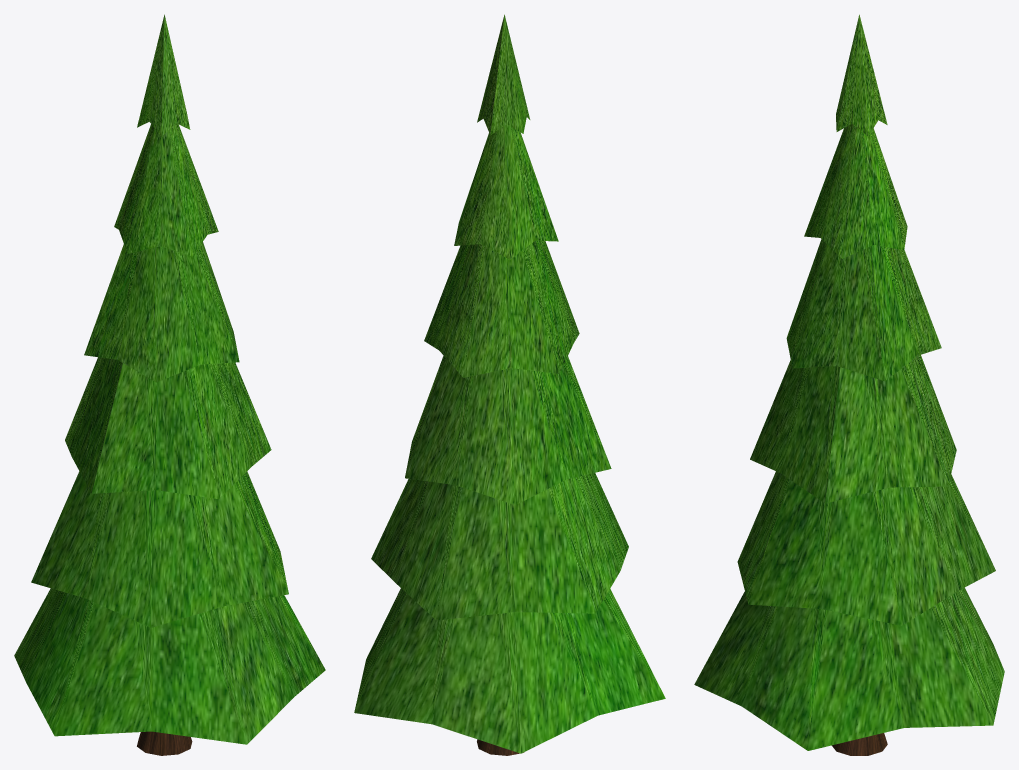
The model's file is tree.gltf.
3 views of the same model, side by side, from view 1: azimuth 30°, elevation 25°; view 2: azimuth 150°, elevation 25°; view 3: azimuth 270°, elevation 25° (orthographic).
Parts seen in each view (by area): view 1: Cylinder; view 2: Cylinder; view 3: Cylinder.
Part boxes in pixels (x1=…): Cylinder: x1=14, y1=14, x2=325, y2=755; Cylinder: x1=354, y1=14, x2=665, y2=755; Cylinder: x1=694, y1=14, x2=1004, y2=755.
Bounding box in the file's own units: 23.4 × 60.2 × 23.2.
Materials: 2 (2 with a texture image).
